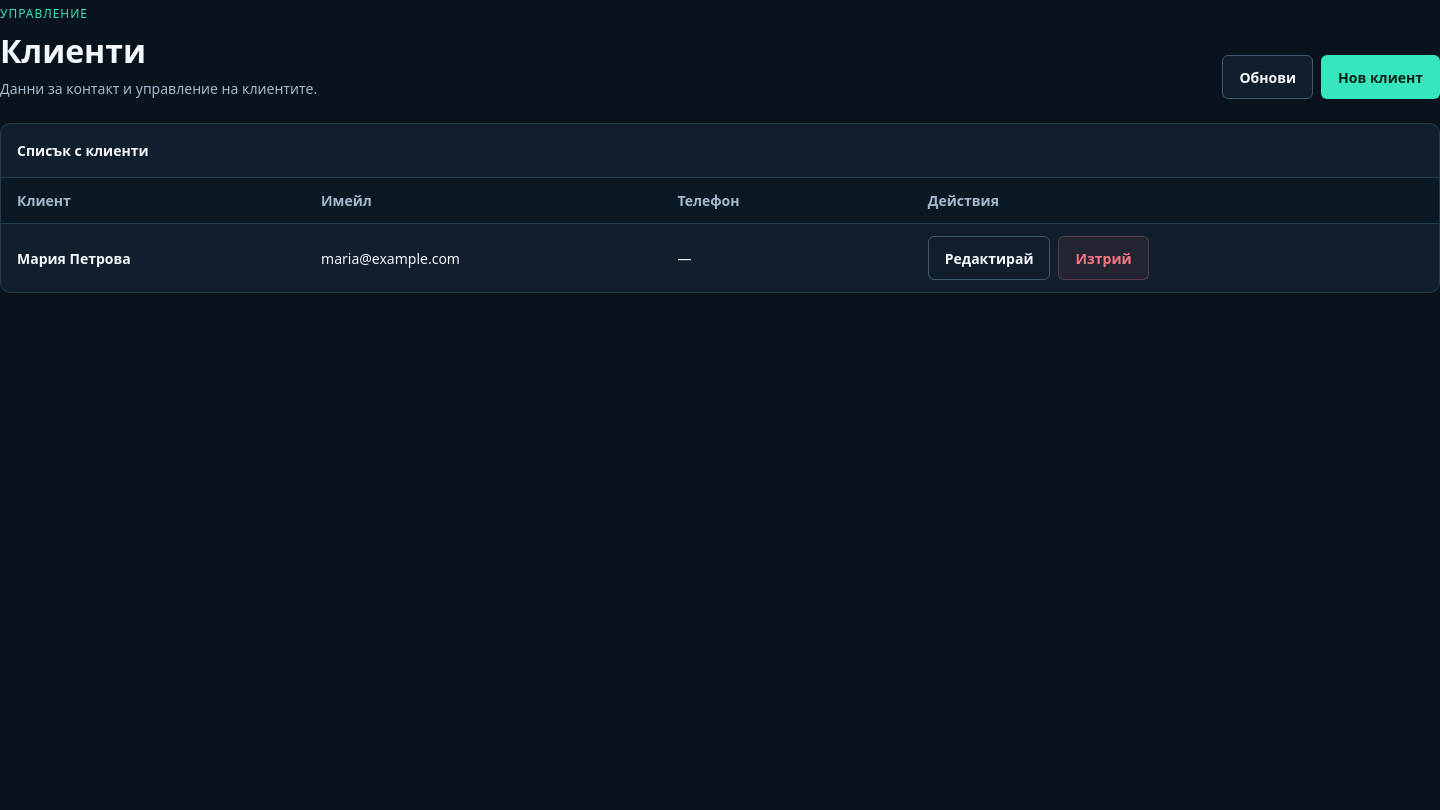
Scenario: loads detail before editing and keeps input on email conflict before a successful PUT
Check: the table is shown, box [1,124,1439,292]
Click the button with aria-label "Редактирай Мария Петрова" at [989, 258], box [928,236,1050,280]
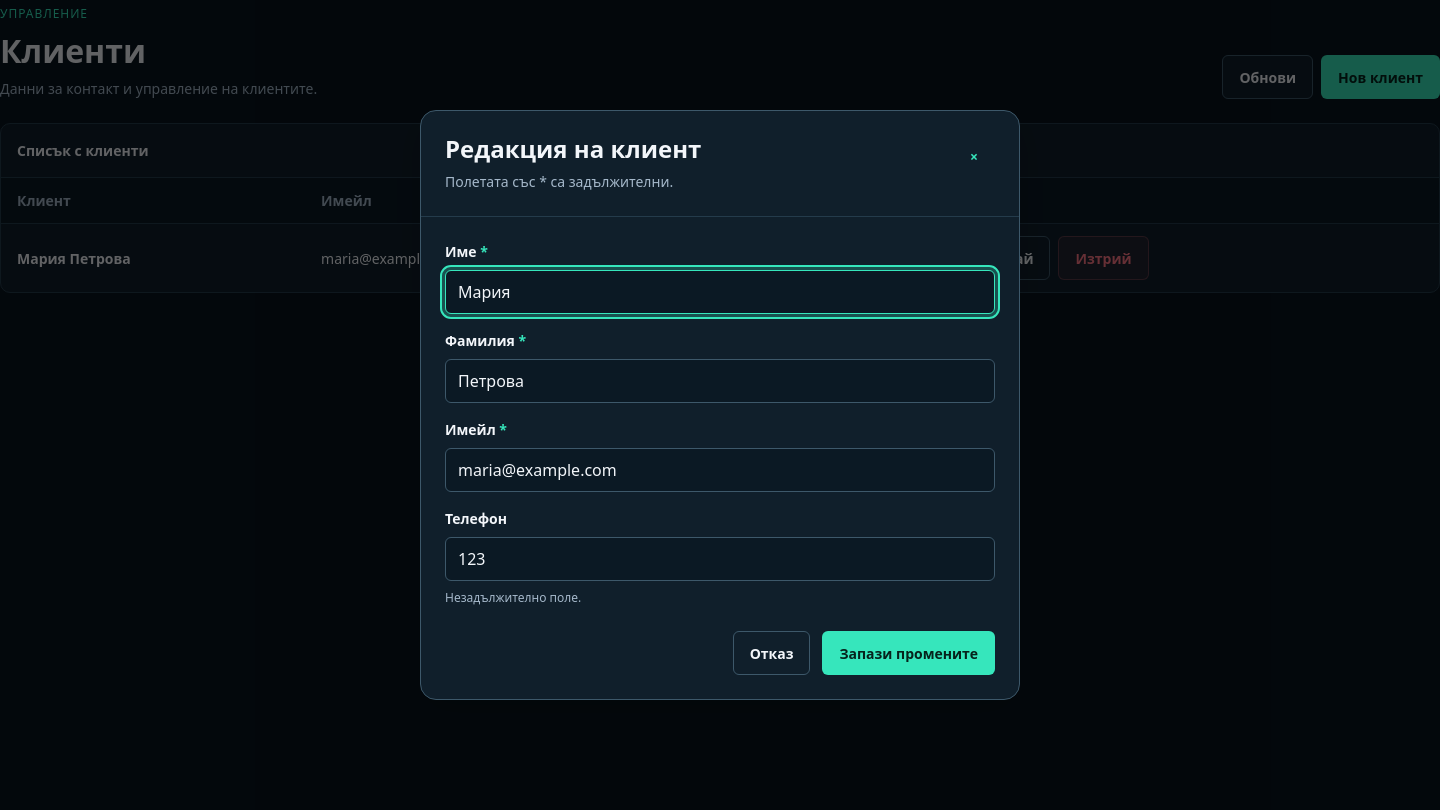
Check: the field labelled "Телефон" holds "123", box [445,537,995,581]
Replace the text in the field labelled "Име" with "Мая" at [720, 292], box [445,270,995,314]
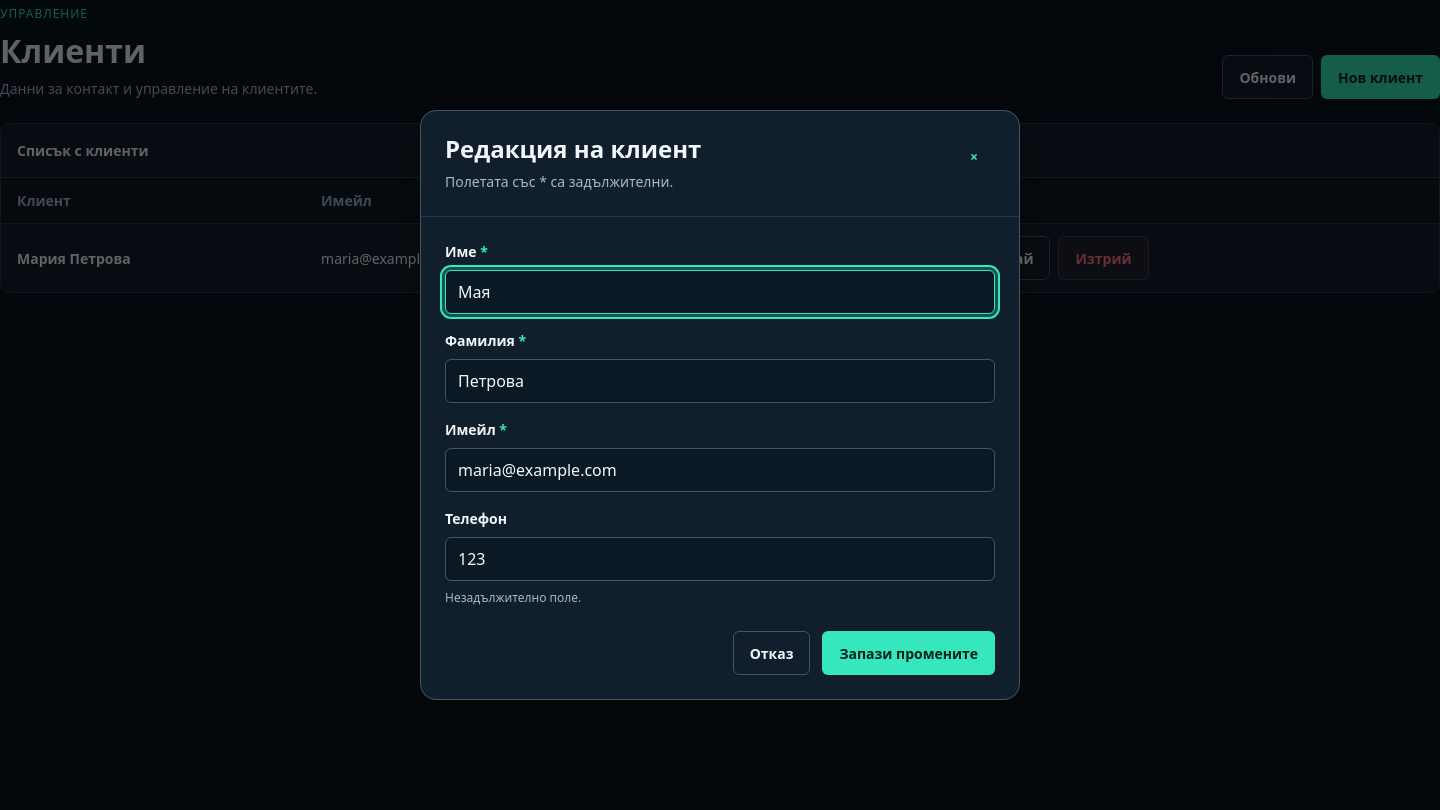
Click the button "Запази промените" at [909, 653], box [822,631,995,675]
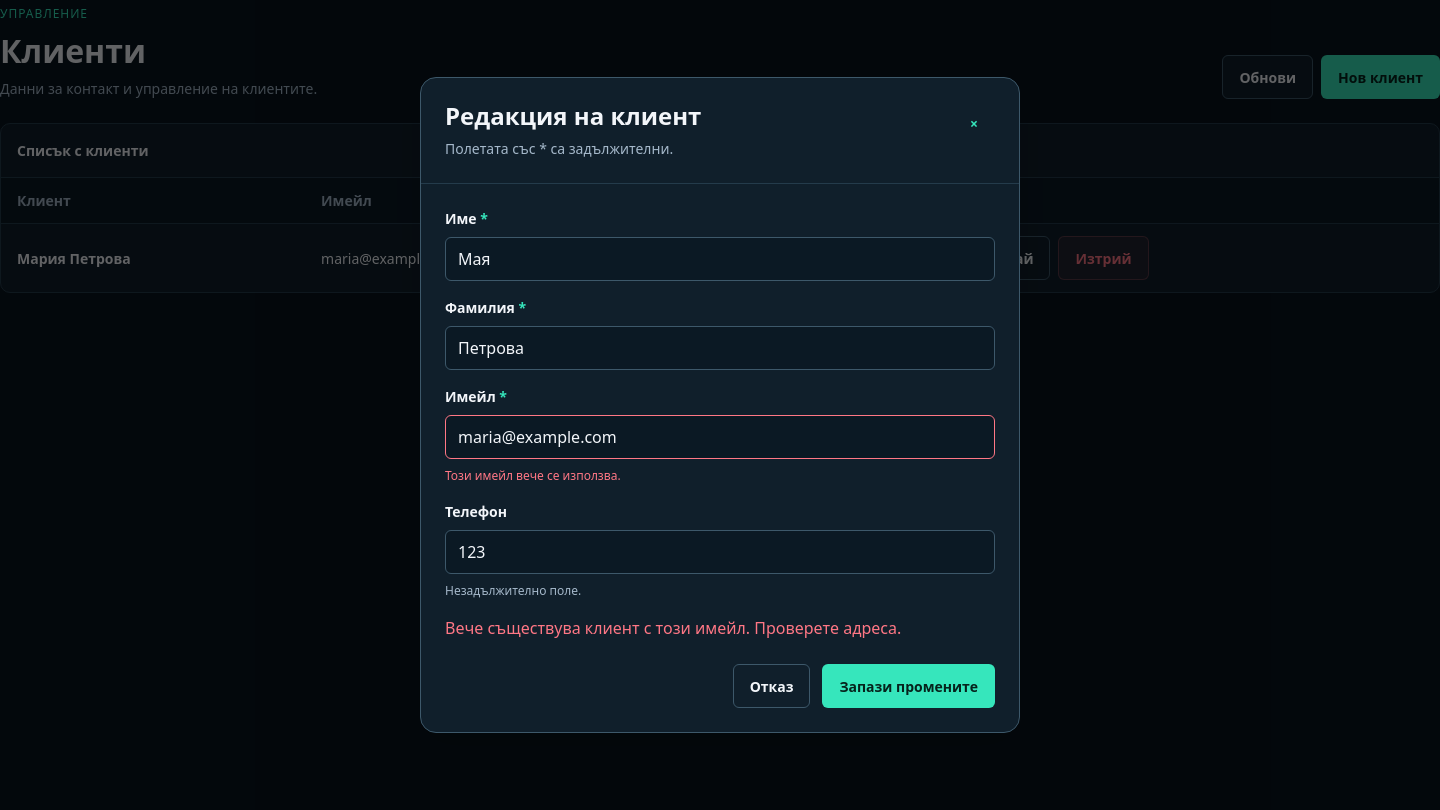
Check: the text "Този имейл вече се използва." is shown, box [445,467,621,484]
Click the button "Запази промените" at [909, 686], box [822,664,995,708]
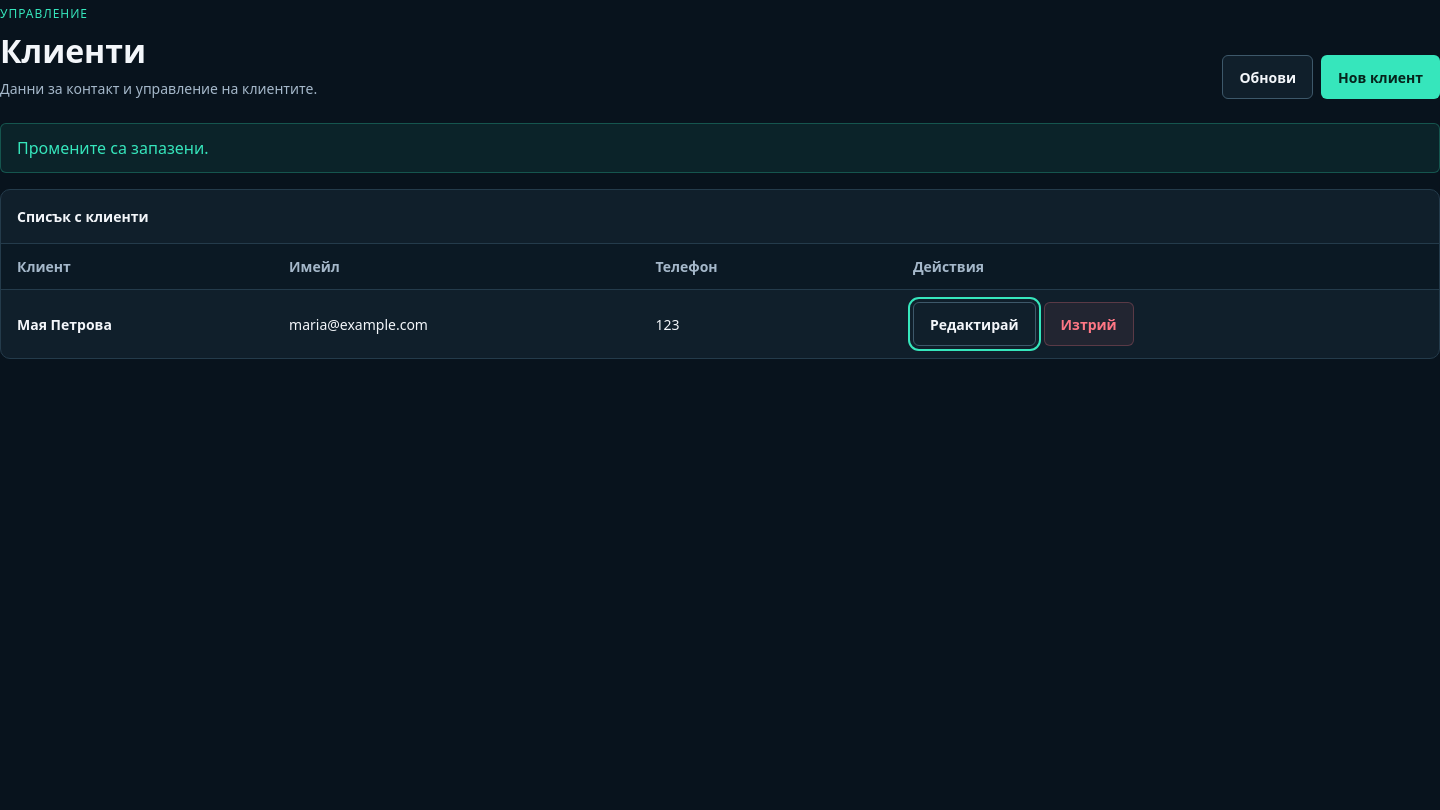
Check: the dialog is gone
Check: the text "Мая Петрова" is shown, box [17,315,112,334]
